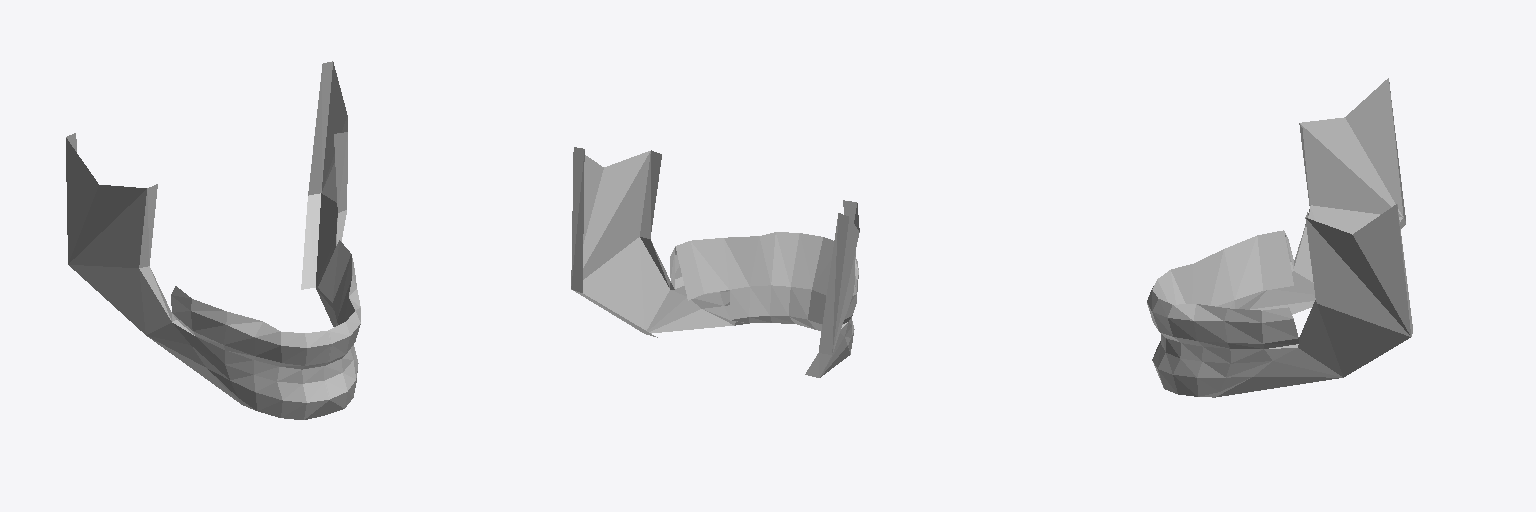
File: mandibule.obj
3 views of the same model, side by side, from view 1: azimuth 30°, elevation 25°; view 2: azimuth 150°, elevation 25°; view 3: azimuth 270°, elevation 25° (orthographic).
Visible parts, largest first — view 1: MANDIBLE01_MANDIBLE01_WHITE_BONE; view 2: MANDIBLE01_MANDIBLE01_WHITE_BONE; view 3: MANDIBLE01_MANDIBLE01_WHITE_BONE.
Boxes of the visible parts, x1,y1,x2,y2 form: MANDIBLE01_MANDIBLE01_WHITE_BONE: [66, 61, 360, 419]; MANDIBLE01_MANDIBLE01_WHITE_BONE: [571, 147, 859, 377]; MANDIBLE01_MANDIBLE01_WHITE_BONE: [1147, 78, 1412, 397].
Bounding box in the file's own units: 5.24 × 4.4 × 4.45.